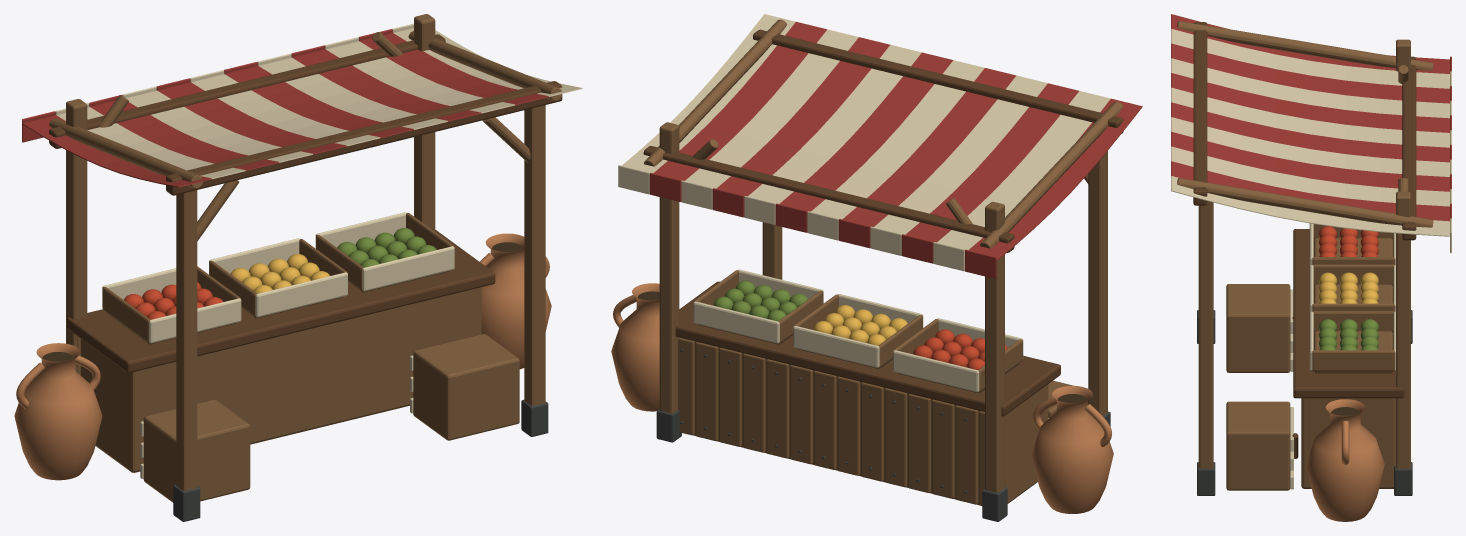
File: RomanMarketStall.glb
The picture shows the model from 3 angles, left to right: view 1: azimuth 30°, elevation 25°; view 2: azimuth 150°, elevation 25°; view 3: azimuth 270°, elevation 25°; orthographic projection. The views are drawn at different scales.
Visible parts, largest first — view 1: Market counter, Counter top, Storage crate.001, Clay market amphora, Storage crate, Market canopy post, Market canopy post.002, Market crossbeam, Clay market amphora.001, Market canopy post.001, Market crossbeam.001, Striped cloth canopy.004 (+29 smaller); view 2: Counter top, Clay market amphora, Striped cloth canopy.009, Striped cloth canopy.005, Striped cloth canopy.004, Striped cloth canopy.006, Striped cloth canopy.007, Striped cloth canopy.003, Striped cloth canopy.008, Market counter, Striped cloth canopy.002, Striped cloth canopy.010 (+50 smaller); view 3: Clay market amphora.001, Storage crate.001, Storage crate, Counter top, Market canopy post.002, Striped cloth canopy.002, Striped cloth canopy.005, Striped cloth canopy.004, Striped cloth canopy.003, Striped cloth canopy.007, Striped cloth canopy.006, Striped cloth canopy.008 (+23 smaller).
Part boxes in pixels (bbox=[...]): Market counter: bbox=[80, 287, 481, 472]; Counter top: bbox=[67, 230, 495, 372]; Storage crate.001: bbox=[413, 334, 519, 440]; Clay market amphora: bbox=[14, 343, 102, 480]; Storage crate: bbox=[143, 399, 250, 502]; Market canopy post: bbox=[176, 190, 197, 490]; Market canopy post.002: bbox=[524, 105, 545, 405]; Market crossbeam: bbox=[166, 81, 562, 195]; Clay market amphora.001: bbox=[481, 233, 551, 369]; Market canopy post.001: bbox=[66, 99, 87, 371]; Market crossbeam.001: bbox=[49, 34, 445, 148]; Striped cloth canopy.004: bbox=[157, 82, 346, 154]; Counter top: bbox=[675, 281, 1060, 416]; Clay market amphora: bbox=[1031, 385, 1113, 513]; Striped cloth canopy.009: bbox=[685, 29, 858, 188]; Striped cloth canopy.005: bbox=[811, 60, 984, 219]; Striped cloth canopy.004: bbox=[842, 68, 1016, 226]; Striped cloth canopy.006: bbox=[779, 52, 953, 211]; Striped cloth canopy.007: bbox=[748, 44, 921, 203]; Striped cloth canopy.003: bbox=[874, 75, 1047, 234]; Striped cloth canopy.008: bbox=[716, 37, 889, 196]; Market counter: bbox=[693, 341, 1048, 505]; Striped cloth canopy.002: bbox=[905, 83, 1078, 242]; Striped cloth canopy.010: bbox=[653, 21, 826, 180]; Clay market amphora.001: bbox=[1306, 399, 1384, 521]; Storage crate.001: bbox=[1226, 401, 1290, 490]; Storage crate: bbox=[1226, 284, 1290, 372]; Counter top: bbox=[1293, 229, 1404, 398]; Market canopy post.002: bbox=[1198, 201, 1213, 468]; Striped cloth canopy.002: bbox=[1171, 43, 1449, 103]; Striped cloth canopy.005: bbox=[1171, 87, 1449, 147]; Striped cloth canopy.004: bbox=[1171, 73, 1449, 132]; Striped cloth canopy.003: bbox=[1171, 58, 1449, 118]; Striped cloth canopy.007: bbox=[1171, 117, 1449, 176]; Striped cloth canopy.006: bbox=[1171, 102, 1449, 162]; Striped cloth canopy.008: bbox=[1171, 131, 1449, 191].
Bounding box in the file's own units: 4.75 × 3.01 × 2.42.
